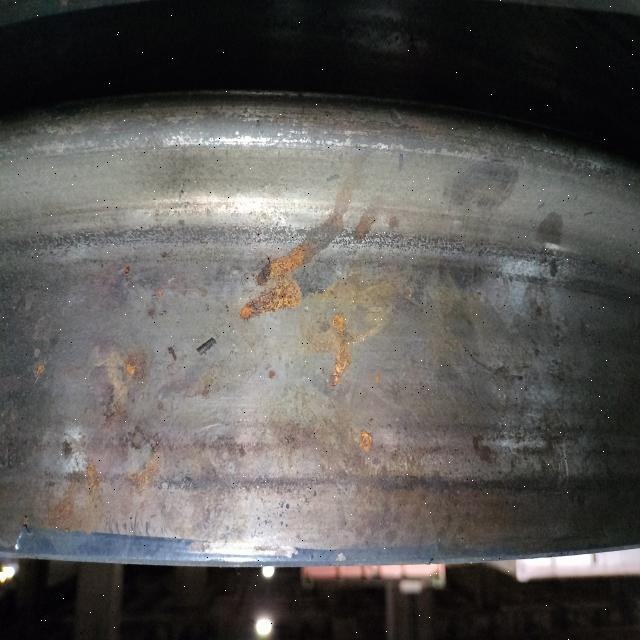Peeling: (96, 381, 160, 461)
